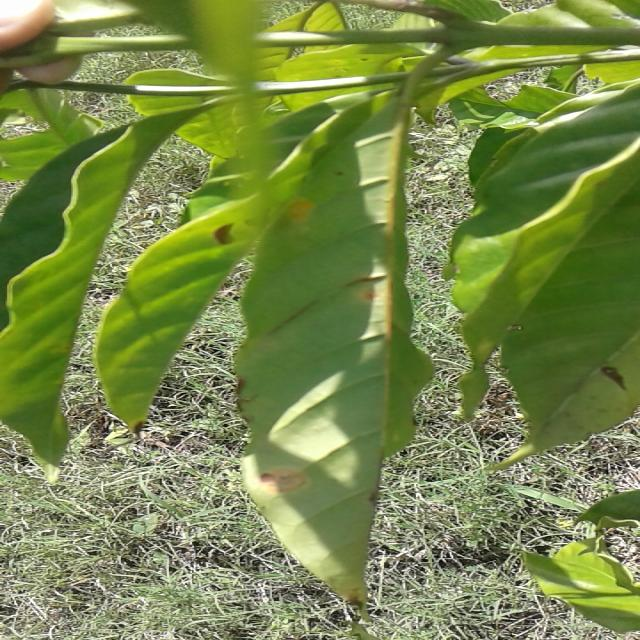Enfermedad-Roya: (244, 50, 432, 608)
